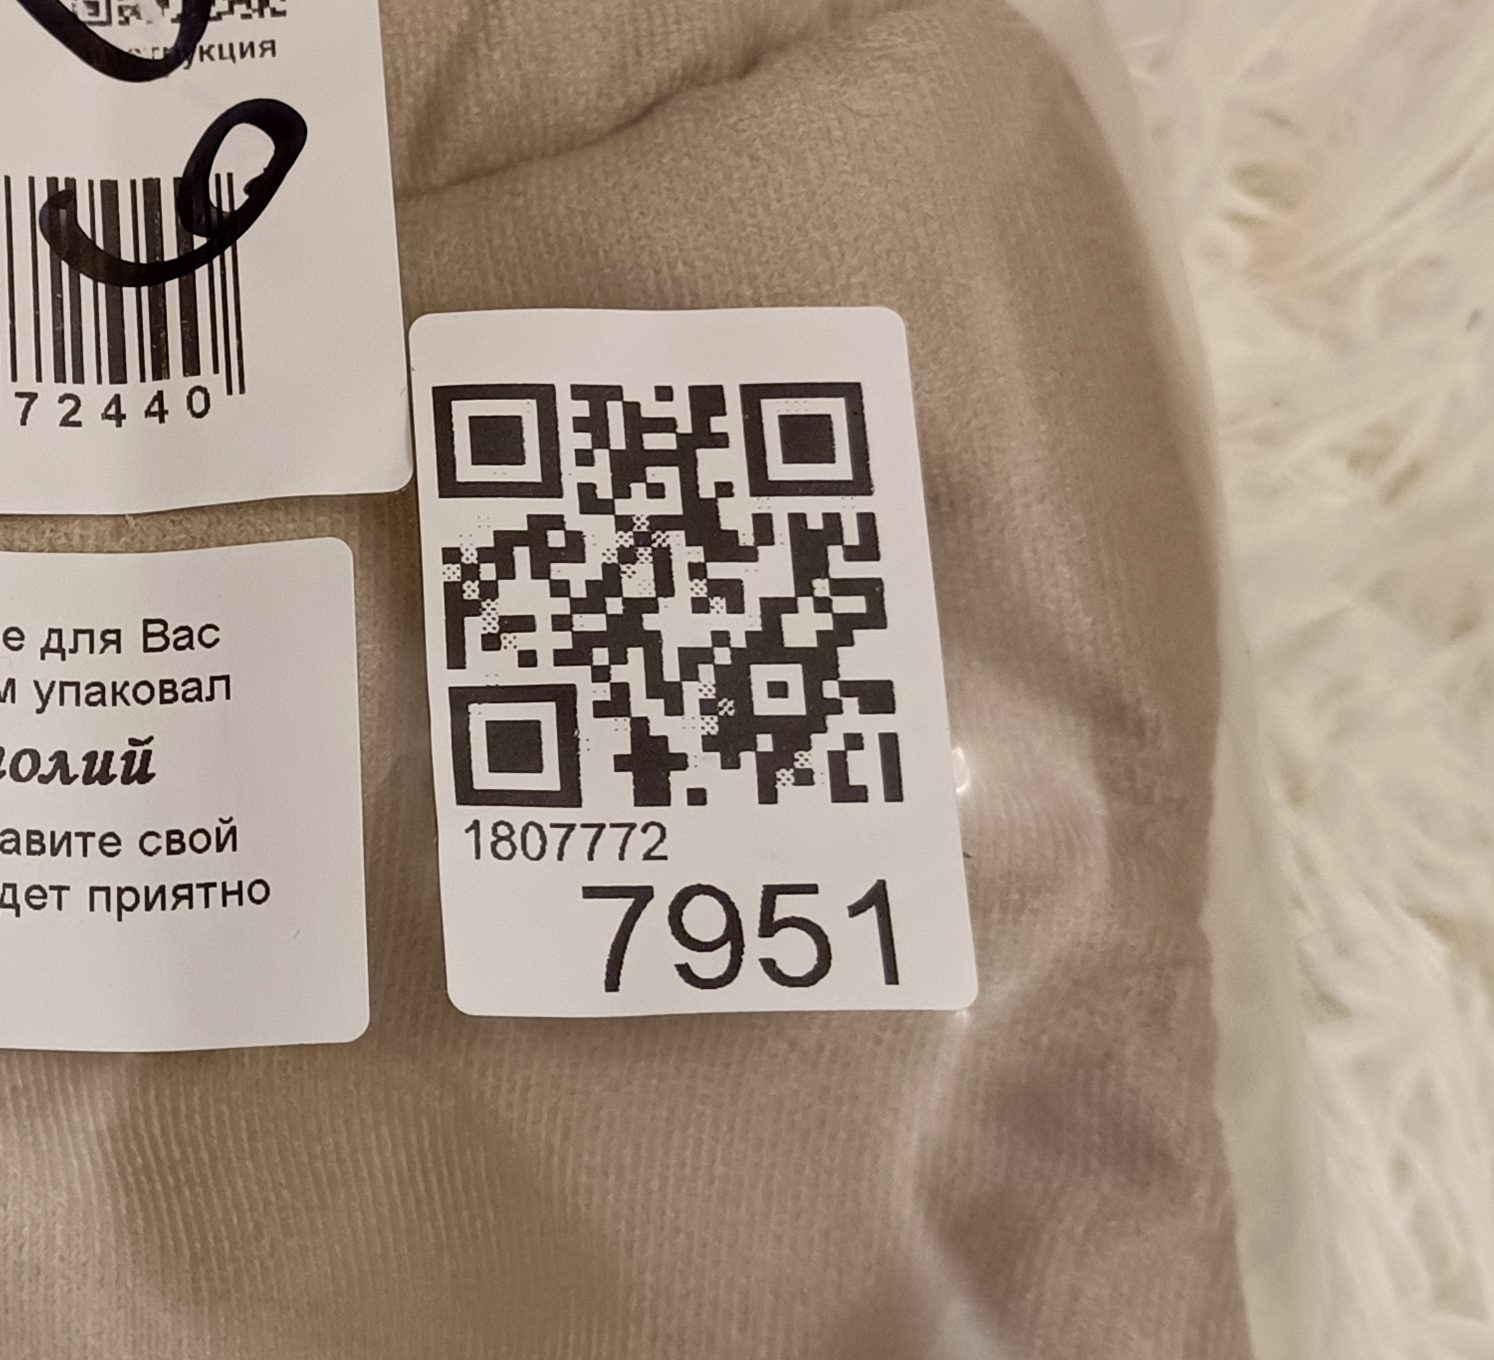2d: (426, 372, 908, 809)
